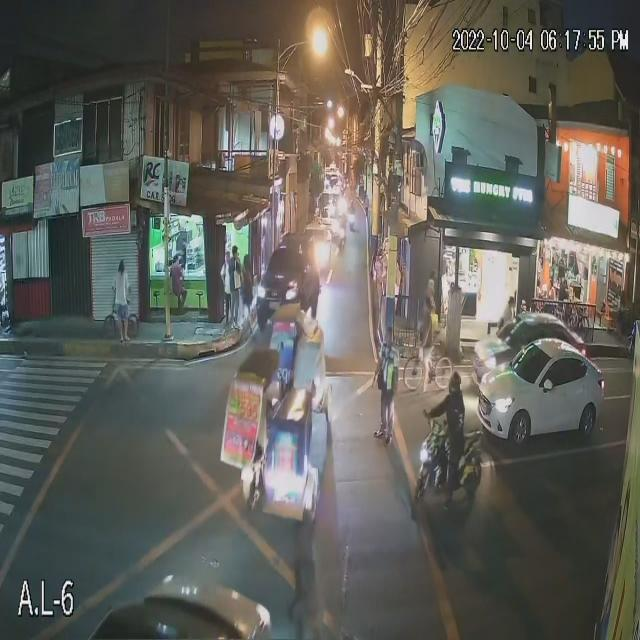helmet: (446, 373, 462, 388)
motorcycle: (420, 432, 483, 497)
rider: (442, 394, 458, 464)
